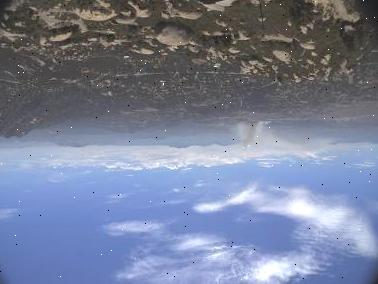smoke: (234, 121, 334, 161)
